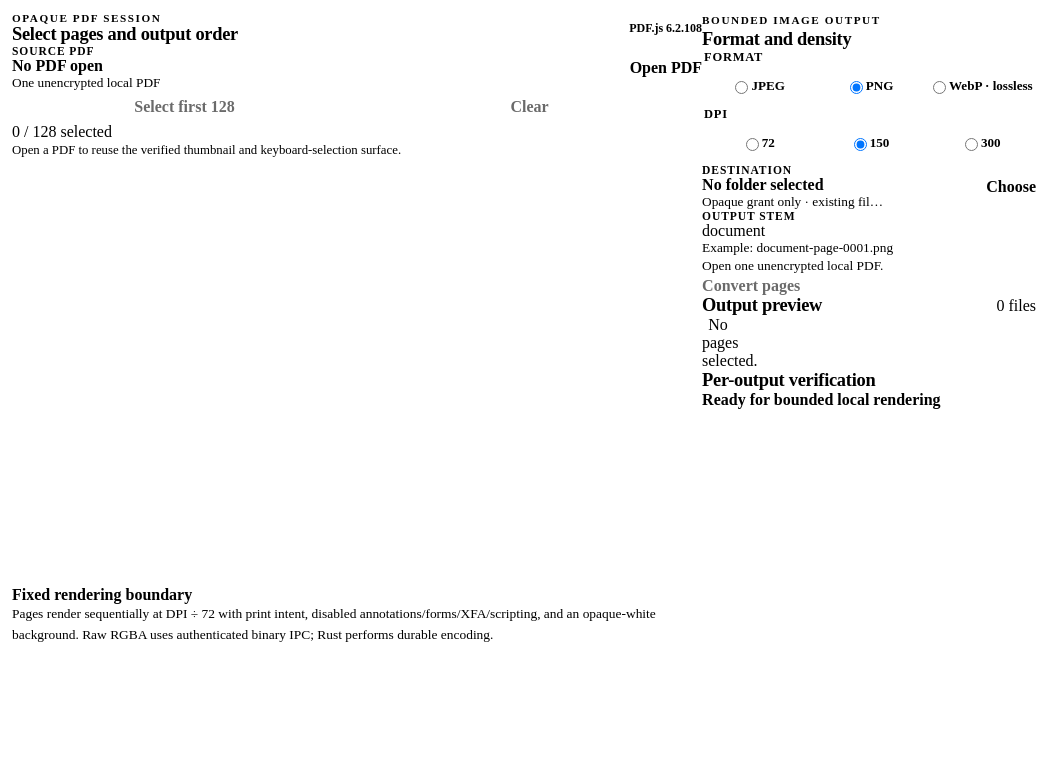
Scenario: PDF-to-images operation lifecycle › reconciles cancellation during rendering after the job ID is known
Click the button "Open PDF" at (666, 68), box [630,59,702,77]
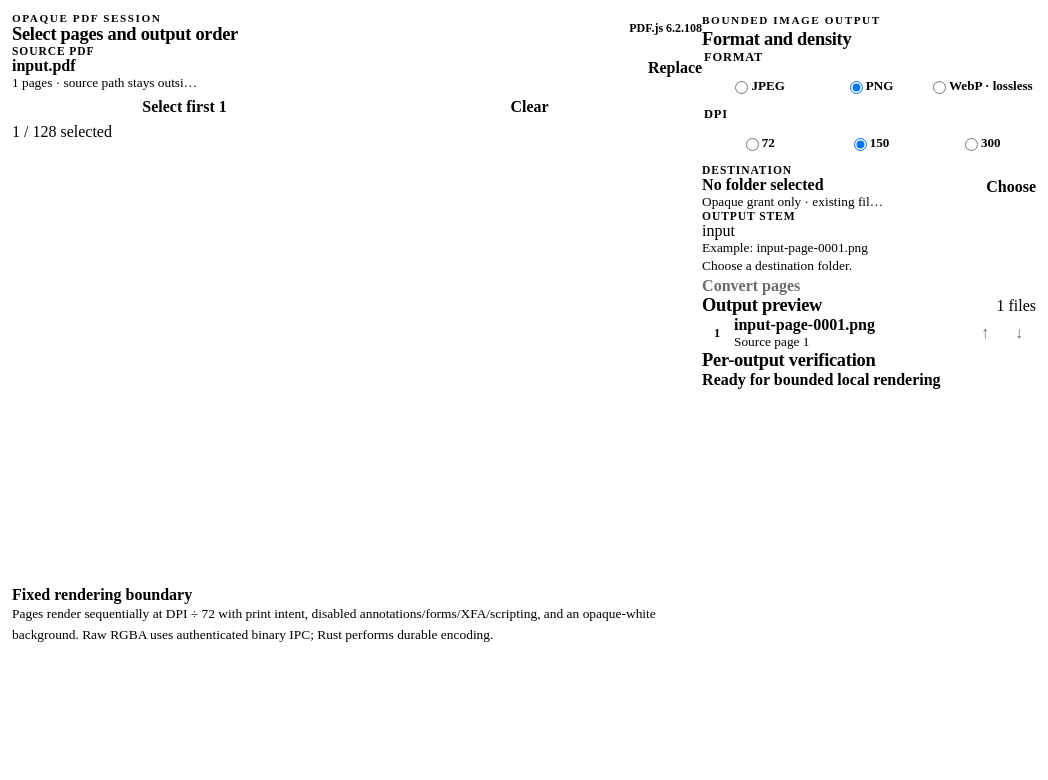
Check: the text "input.pdf" is shown, box [12,57,76,74]
Click the button "Choose" at (1011, 187), box [986,178,1036,196]
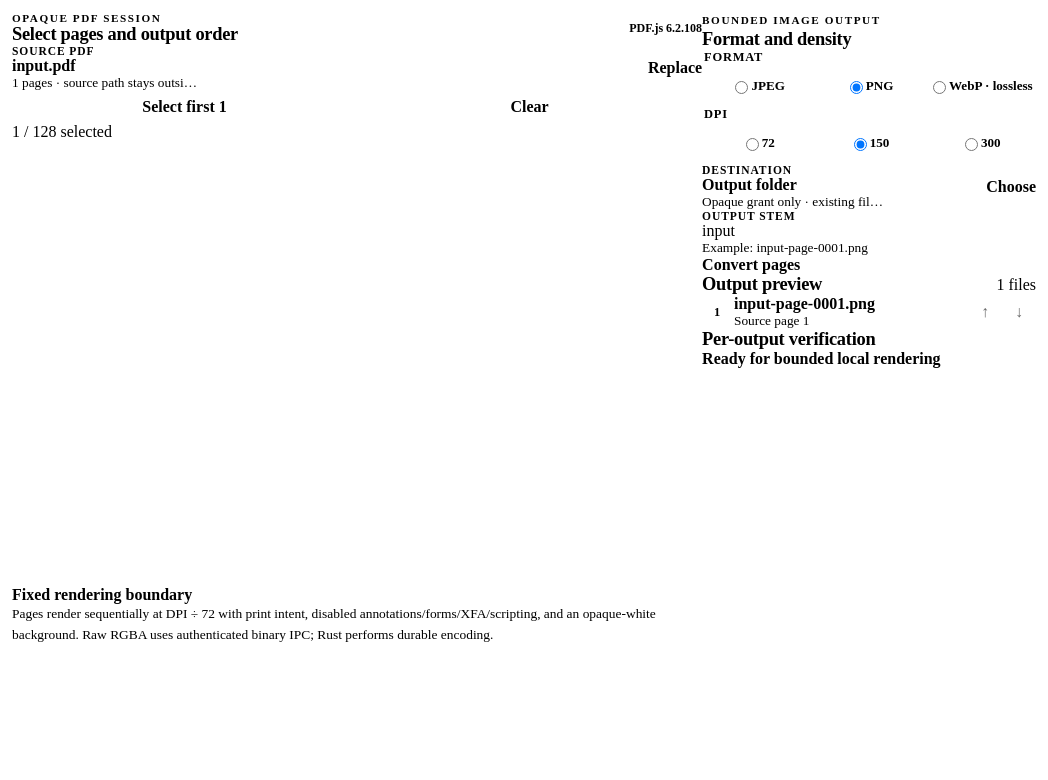
Check: the text "Output folder" is shown, box [702,176,797,193]
Click the button "Convert pages" at (751, 265), box [702,256,800,274]
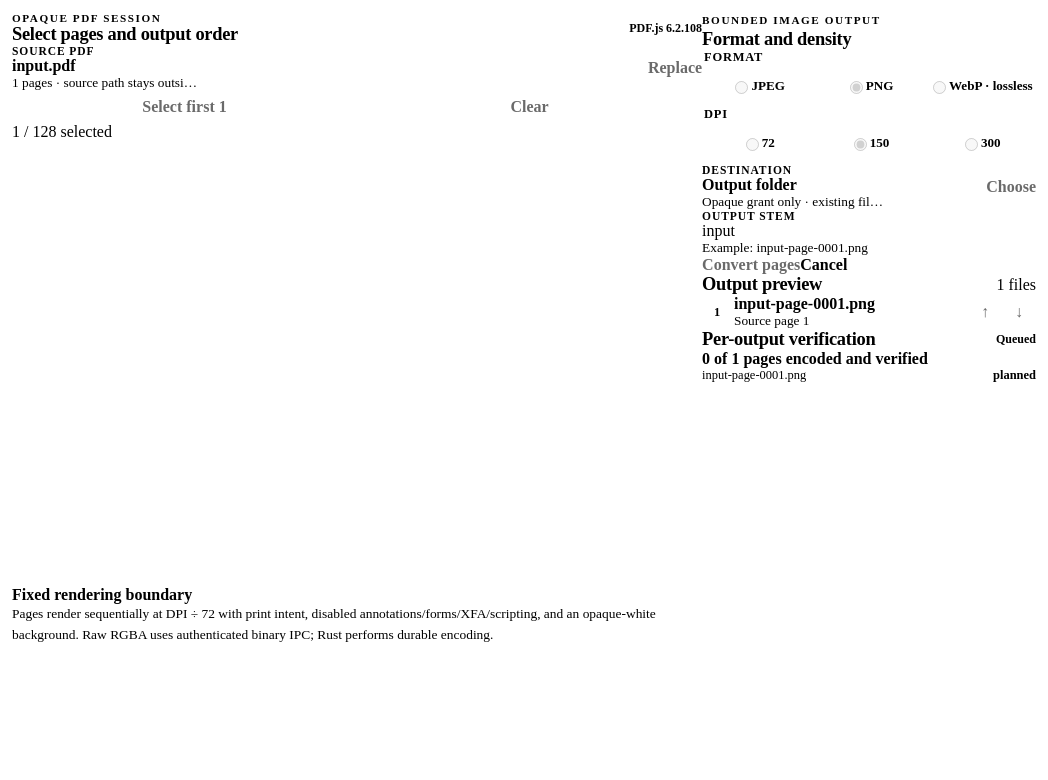
Click the button "Cancel" at (824, 265), box [800,256,847,274]
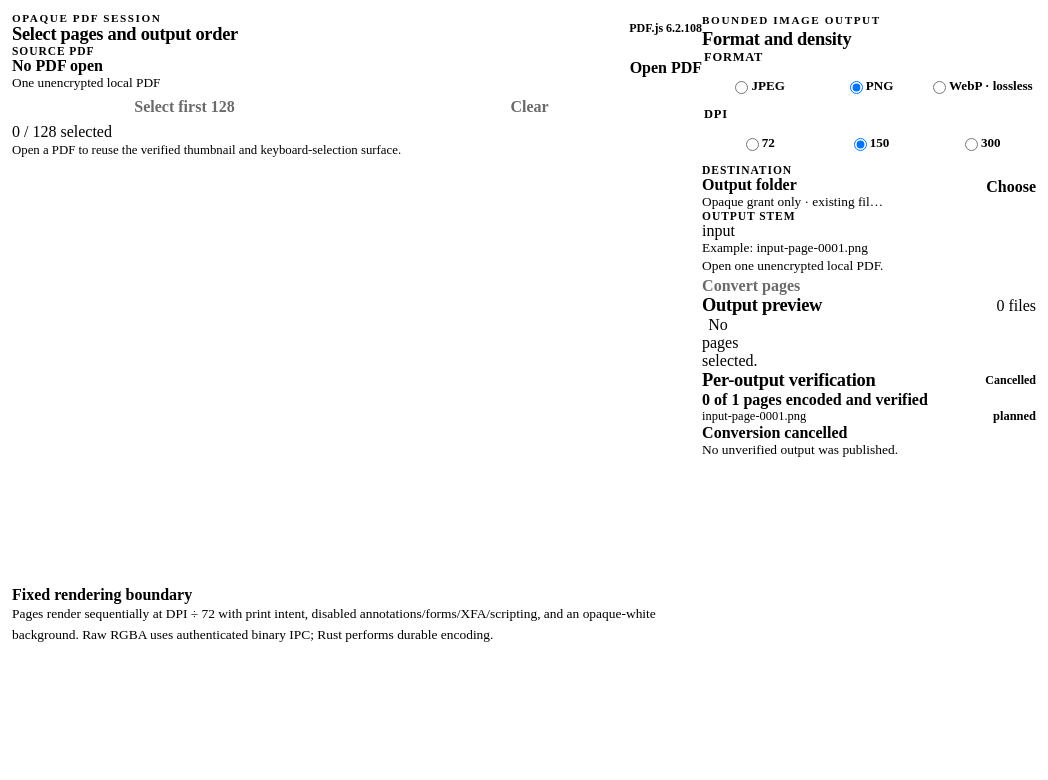
Check: the text "cancelled" is shown, box [985,373,1036,388]
